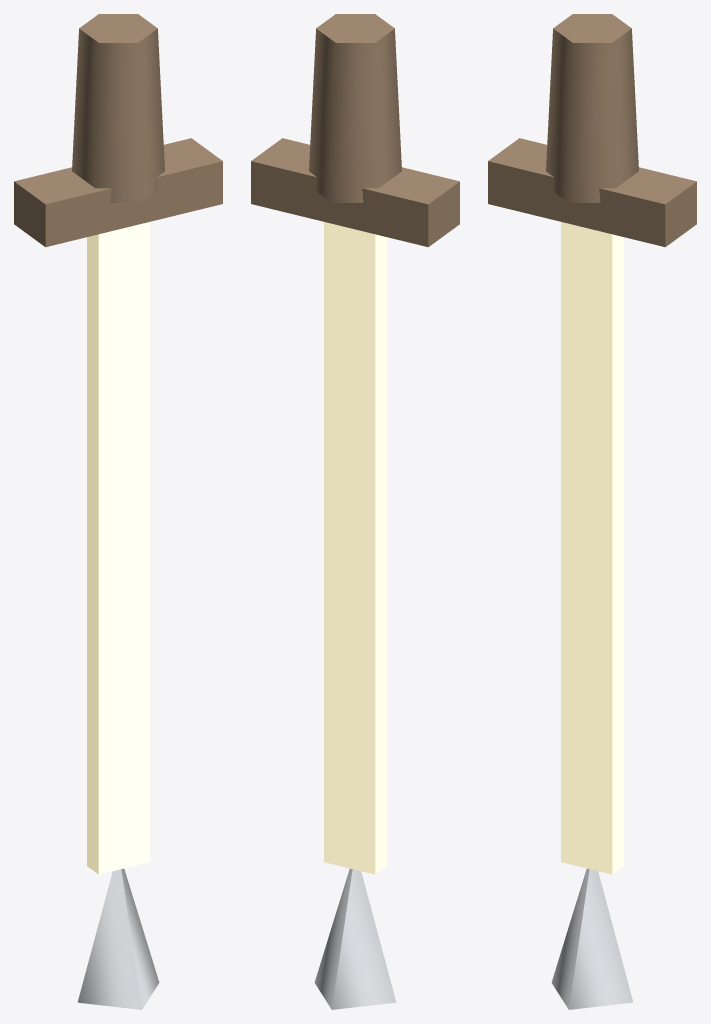
File: machete.glb
The picture shows the model from 3 angles, left to right: view 1: azimuth 30°, elevation 25°; view 2: azimuth 150°, elevation 25°; view 3: azimuth 330°, elevation 25°; orthographic projection.
Size of the model in its own units: 0.26 by 1.35 by 0.12.
